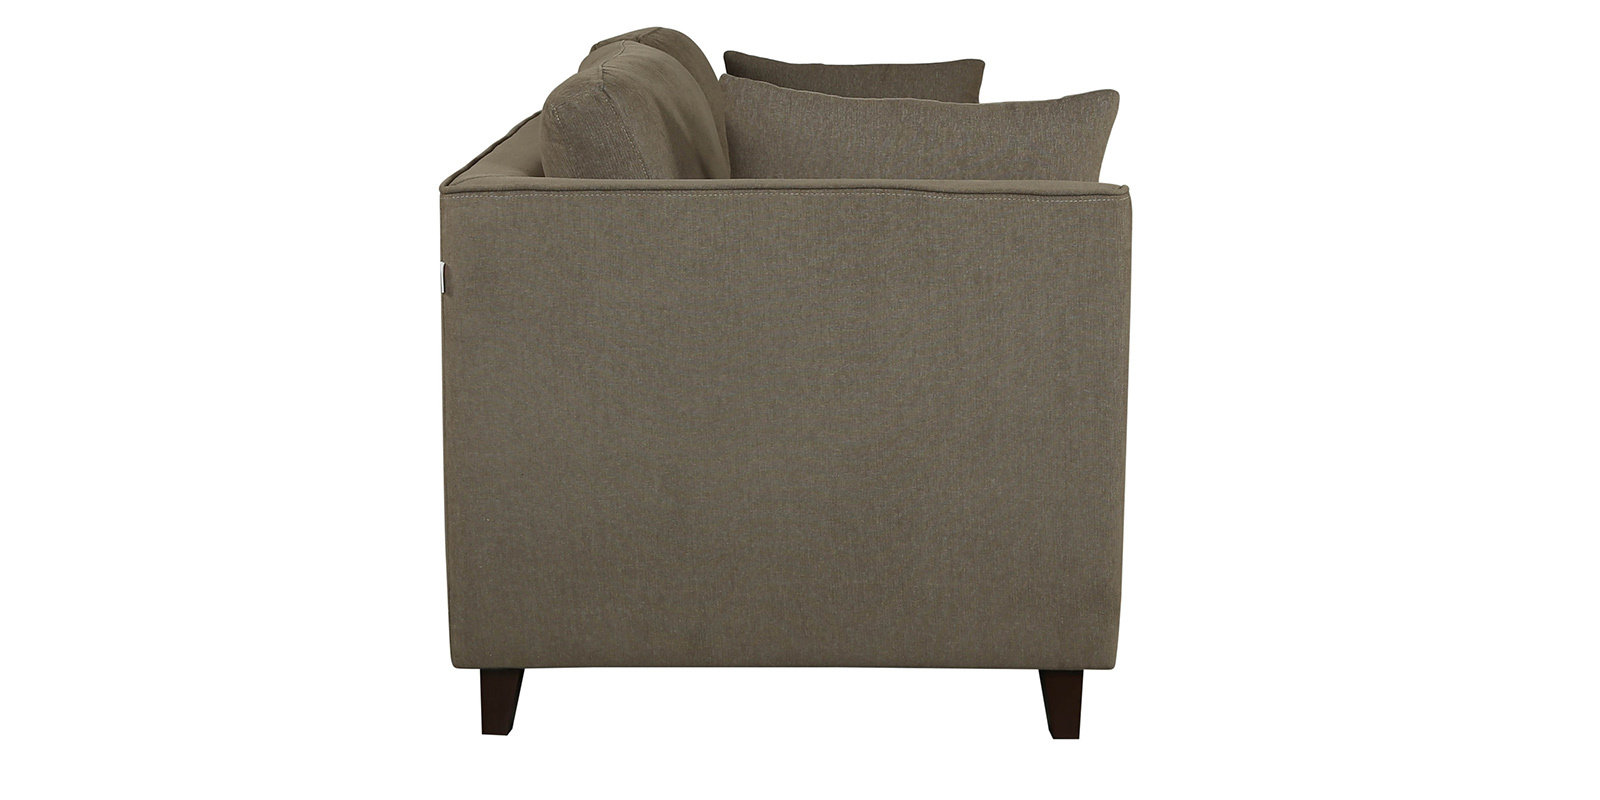Miranda Three Seater Sofa in Sandy Brown Colour by CasaCraft: (439, 23, 1134, 742)
